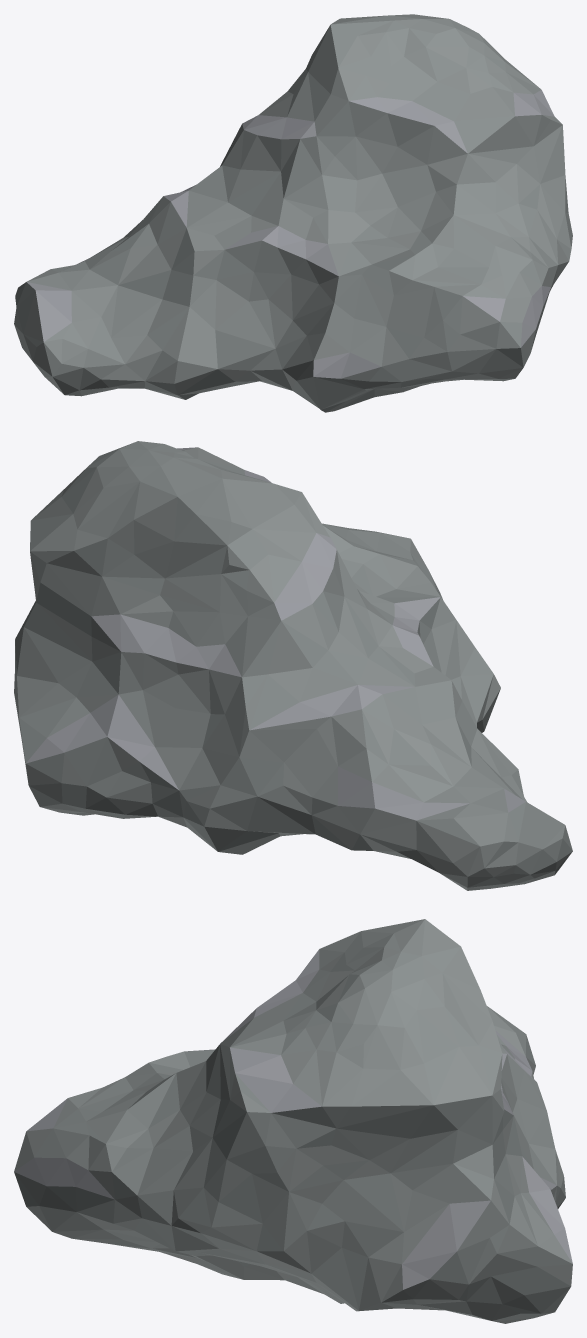
Rendered from mesh_rock_big_04.fbx.
The picture shows the model from 3 angles, top to bottom: view 1: azimuth 30°, elevation 25°; view 2: azimuth 150°, elevation 25°; view 3: azimuth 270°, elevation 25°; orthographic projection. The views are drawn at different scales.
Visible parts, largest first — view 1: mesh_rock_big_04_LOD0; view 2: mesh_rock_big_04_LOD0; view 3: mesh_rock_big_04_LOD0.
Part boxes in pixels (box(x1,y1,x2,y2)): mesh_rock_big_04_LOD0: box(14, 14, 572, 412); mesh_rock_big_04_LOD0: box(14, 441, 572, 890); mesh_rock_big_04_LOD0: box(14, 919, 572, 1323).
Size of what is drawn, in the model's own units: 2.83 by 1.76 by 2.45.
